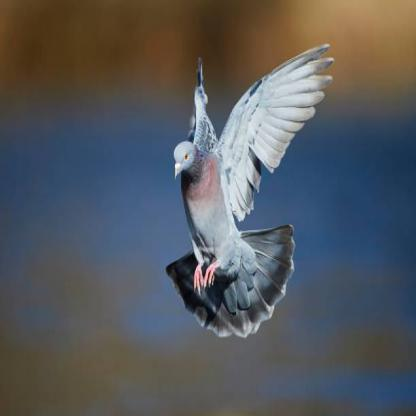Rock Pigeon: (169, 132, 276, 333)
